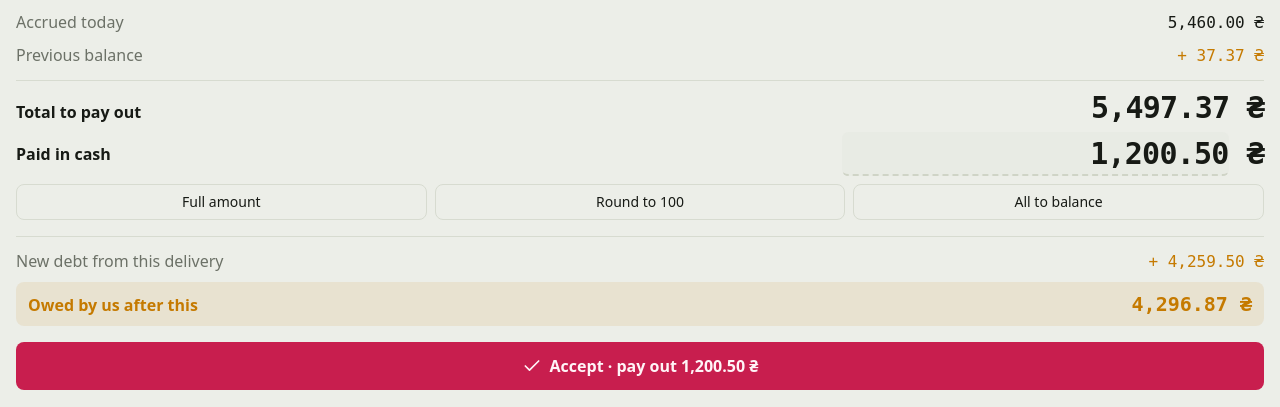
Test: TotalsSection — the remainder panel › shows the paid figure formatted like the total at rest, raw while typed into
Click the field labelled "Paid in cash" at (1035, 154), box x1=842 y1=132 x2=1229 y2=176
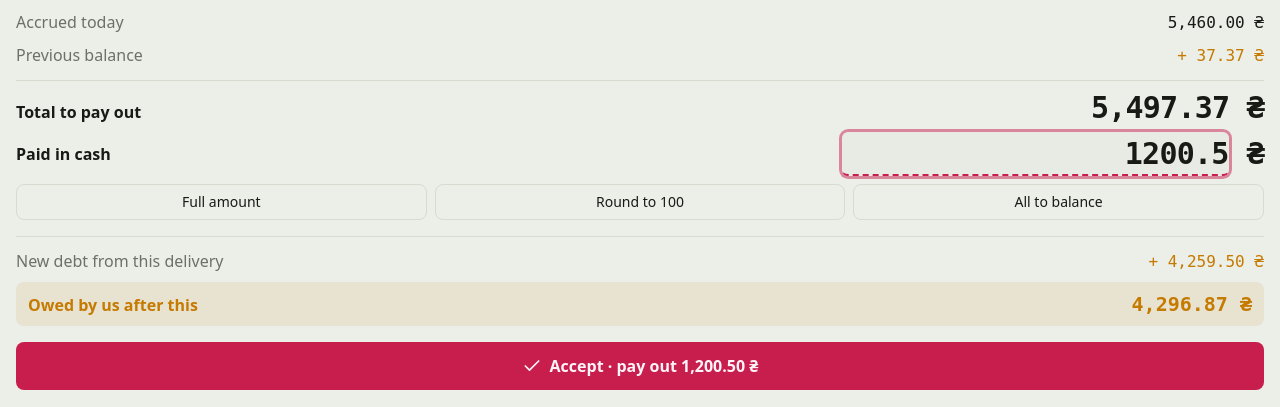
expect the field labelled "Paid in cash" holds "1200.5": met, box x1=842 y1=132 x2=1229 y2=176
